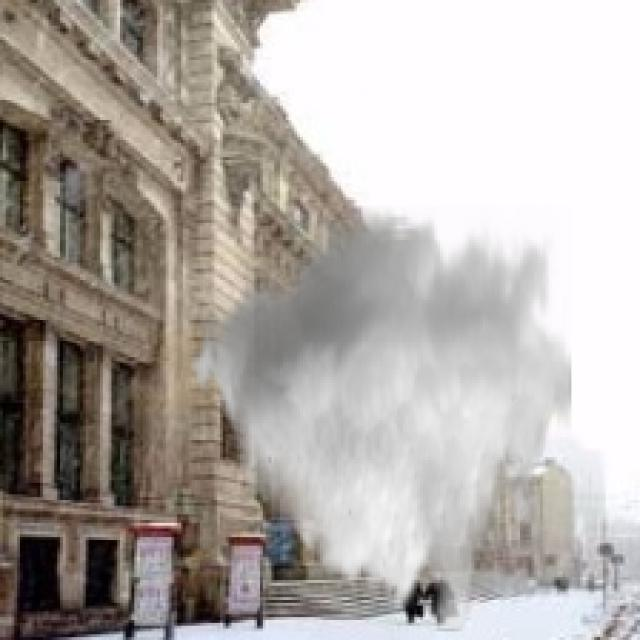smoke: (183, 206, 571, 631)
